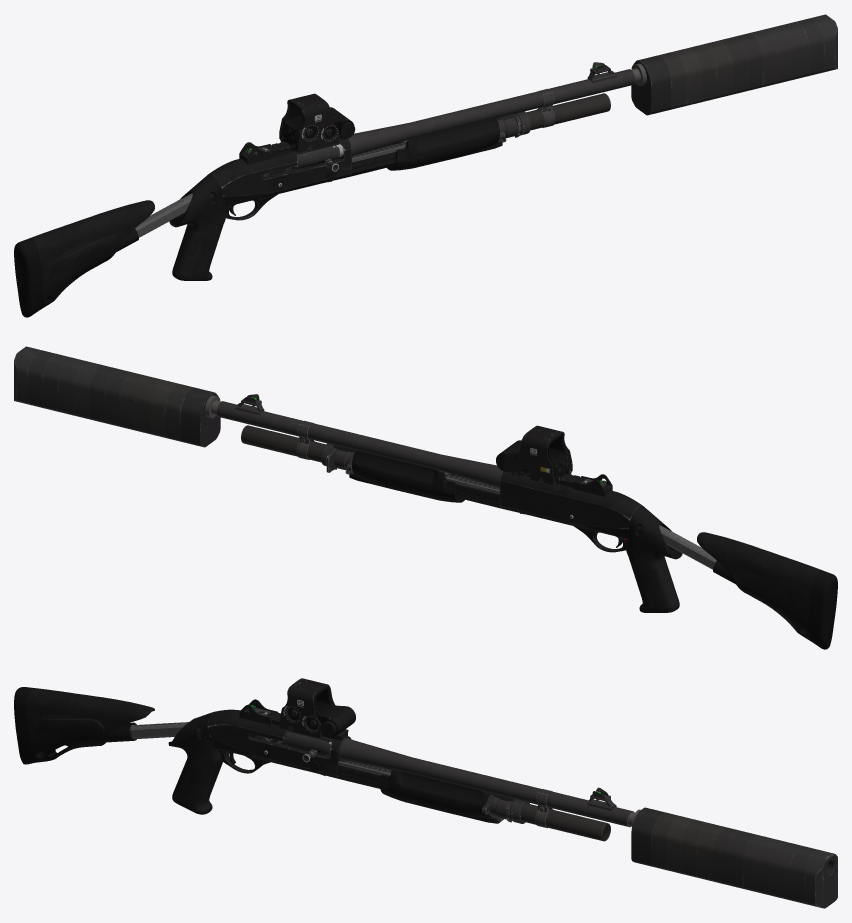
The model's file is benelli_m3.glb.
The picture shows the model from 3 angles, top to bottom: view 1: azimuth 30°, elevation 25°; view 2: azimuth 150°, elevation 25°; view 3: azimuth 330°, elevation 25°; orthographic projection.
Parts seen in each view (by area): view 1: base, silencer, base_2, forend, sight, forend_2; view 2: base, silencer, base_2, forend, sight; view 3: base, silencer, base_2, forend, sight, forend_2.
Part boxes in pixels (x1,y1,x2,y2): base: (14, 88, 555, 317); silencer: (631, 14, 837, 115); base_2: (266, 62, 634, 186); forend: (387, 118, 507, 170); sight: (279, 93, 355, 152); forend_2: (283, 139, 410, 171); base: (296, 420, 837, 649); silencer: (14, 346, 220, 447); base_2: (217, 394, 573, 518); forend: (344, 450, 464, 502); sight: (496, 425, 572, 484); base: (14, 687, 553, 828); silencer: (627, 807, 837, 908); base_2: (264, 732, 633, 841); forend: (380, 770, 503, 823); sight: (279, 678, 355, 738); forend_2: (281, 732, 390, 776).
Size of the model in its own units: 1.53 by 0.2731 by 0.0842.
Materials: 3 (3 with a texture image).
